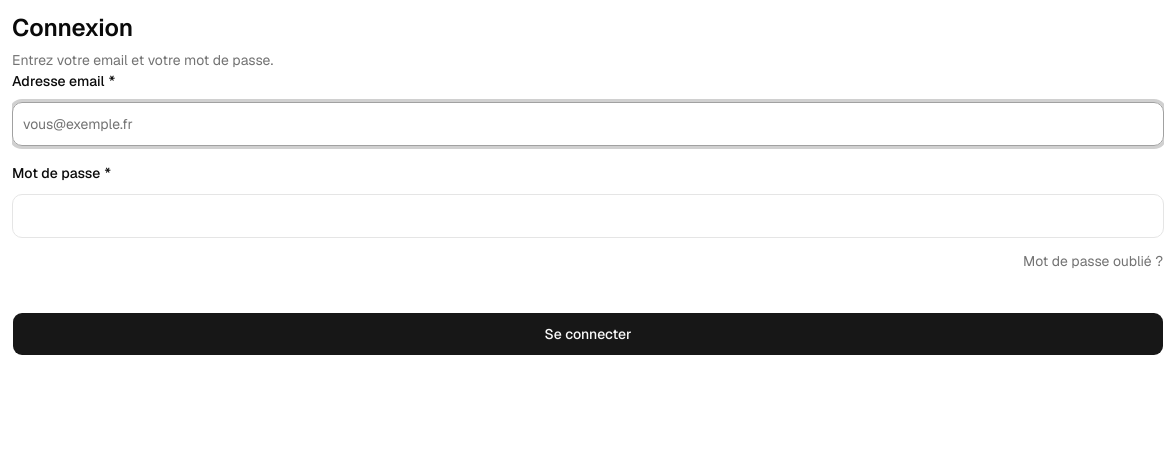
Test case: SignInScreen › falls back to the retry message when the rejection carries no code
The width and height of the screenshot is (1176, 449).
Type "olivier@exemple.fr" into the field labelled "Adresse email" at coordinates (588, 124), box [12, 102, 1164, 146]
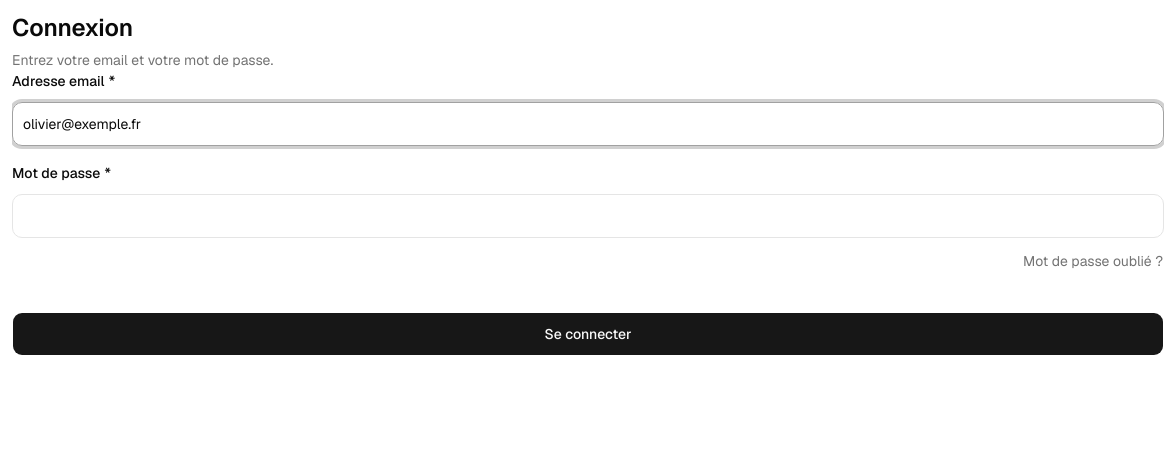
Type "motdepasse123" into the password field labelled "Mot de passe" at coordinates (588, 216), box [12, 194, 1164, 238]
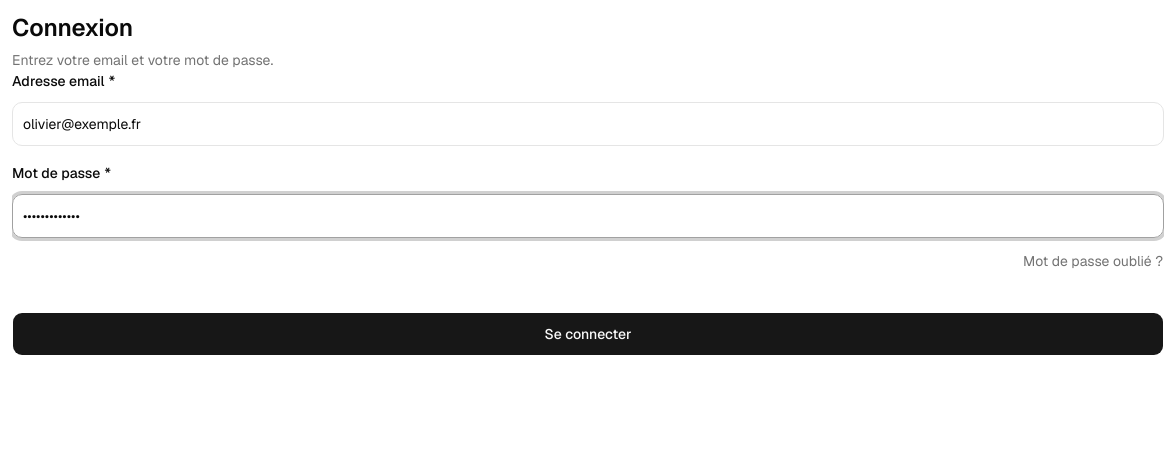
Click the button "Se connecter" at coordinates (588, 334), box [12, 312, 1164, 356]
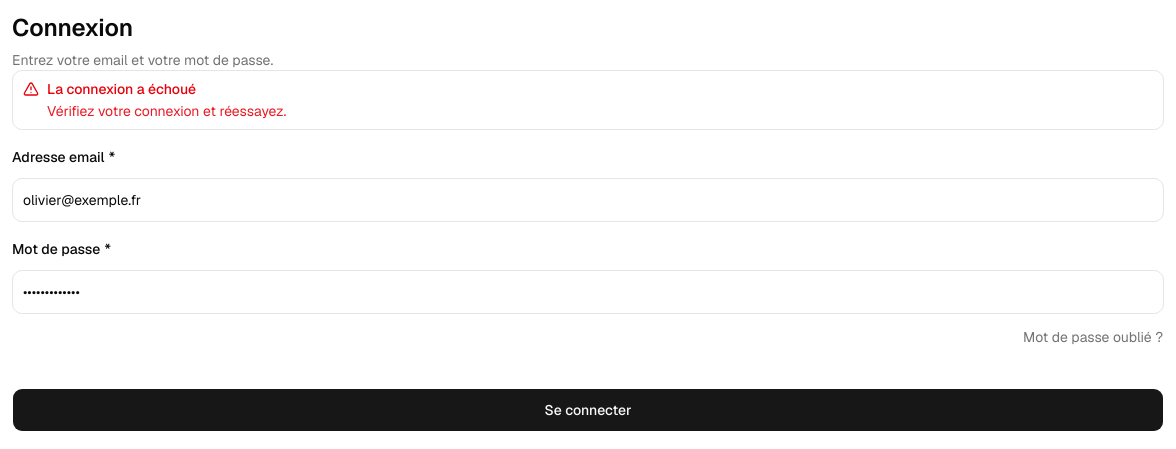
Expected: the button "Se connecter" is enabled, [12, 388, 1164, 432]
Now the text "Vérifiez votre connexion et réessayez." is shown, box [47, 102, 286, 120]
